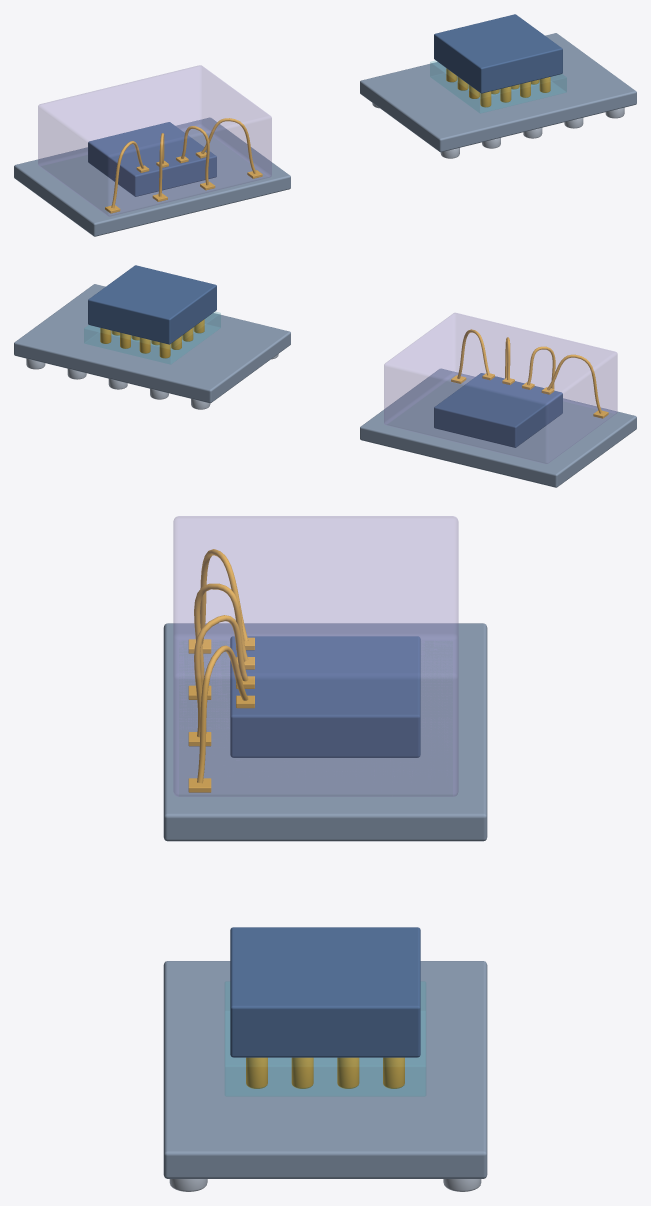
File: packaging.glb
3 renders of one model, top to bottom at view 1: azimuth 30°, elevation 25°; view 2: azimuth 150°, elevation 25°; view 3: azimuth 270°, elevation 25°, orthographic. The views are drawn at different scales.
Parts seen in each view (by area): view 1: mold, sub.001, sub, die_fc, die, underfill, wire.003, wire.002, wire; view 2: mold, sub.001, sub, die_fc, die, underfill, wire, wire.003; view 3: mold, sub.001, sub, die_fc, die, underfill, wire.003, wire.002, wire.001, wire.
Boxes of the visible parts, box(x1,y1,x2,y2) form: mold: box(38, 65, 271, 216); sub.001: box(360, 33, 636, 152); sub: box(14, 117, 290, 236); die_fc: box(434, 14, 562, 93); die: box(88, 122, 216, 196); underfill: box(430, 60, 566, 113); wire.003: box(201, 118, 256, 173); wire.002: box(181, 126, 209, 185); wire: box(111, 141, 144, 208); mold: box(384, 313, 617, 463); sub.001: box(14, 284, 290, 403); sub: box(360, 368, 636, 487); die_fc: box(88, 265, 216, 344); die: box(434, 373, 562, 447); underfill: box(84, 311, 220, 364); wire: box(547, 354, 602, 413); wire.003: box(457, 329, 489, 378); mold: box(173, 516, 458, 796); sub.001: box(163, 961, 487, 1178); sub: box(163, 623, 487, 841); die_fc: box(230, 927, 420, 1057); die: box(230, 636, 420, 757); underfill: box(225, 981, 425, 1096); wire.003: box(197, 645, 248, 783); wire.002: box(194, 615, 248, 737); wire.001: box(194, 583, 248, 687); wire: box(200, 549, 248, 644).
Size of the model in its own units: 6.6 by 1 by 1.7.
